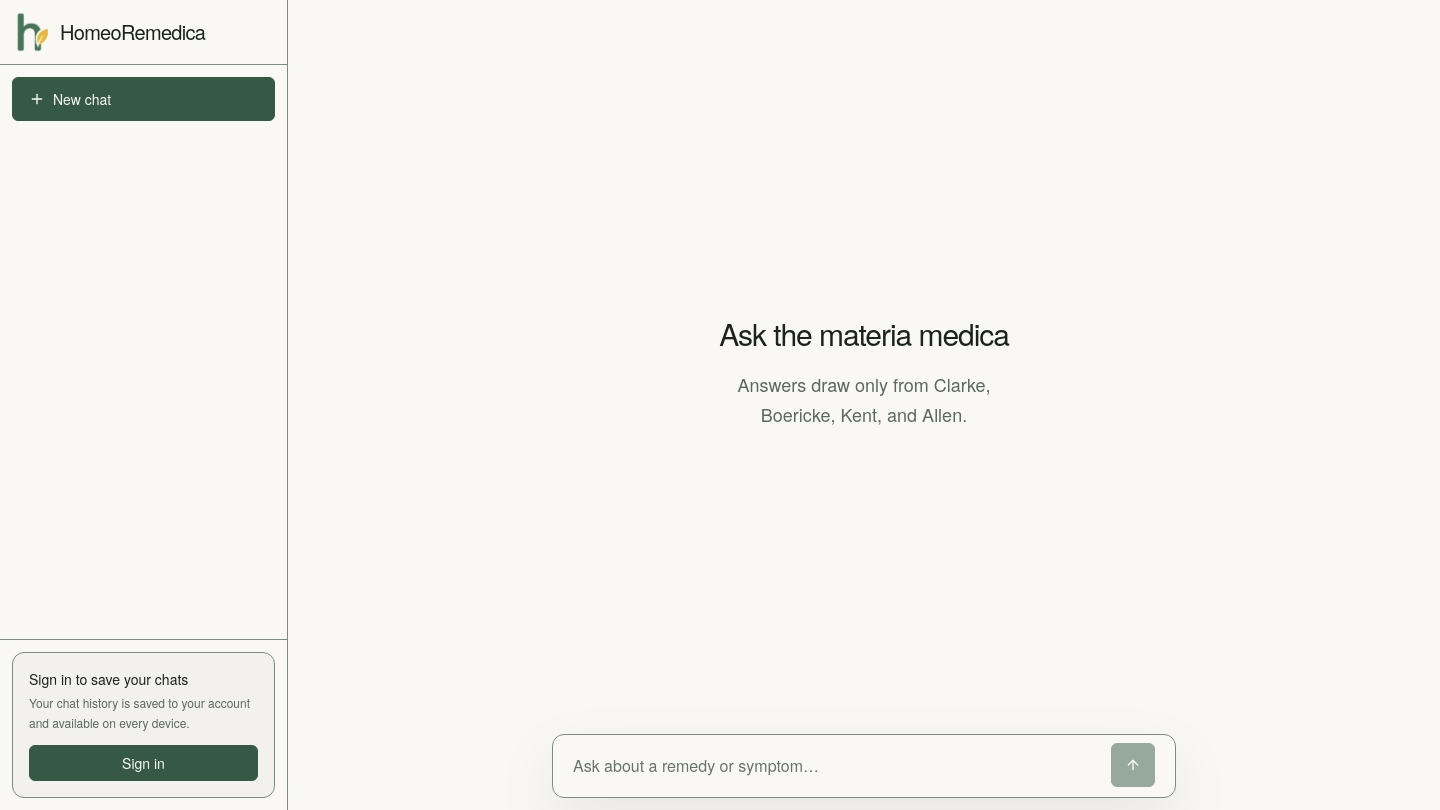
ChatClient › bolds starred phrases and strips citation numbers from answers
Type "How is Nux vomica described?" into the text box named "Message" at (836, 766), box [573,743,1099,789]
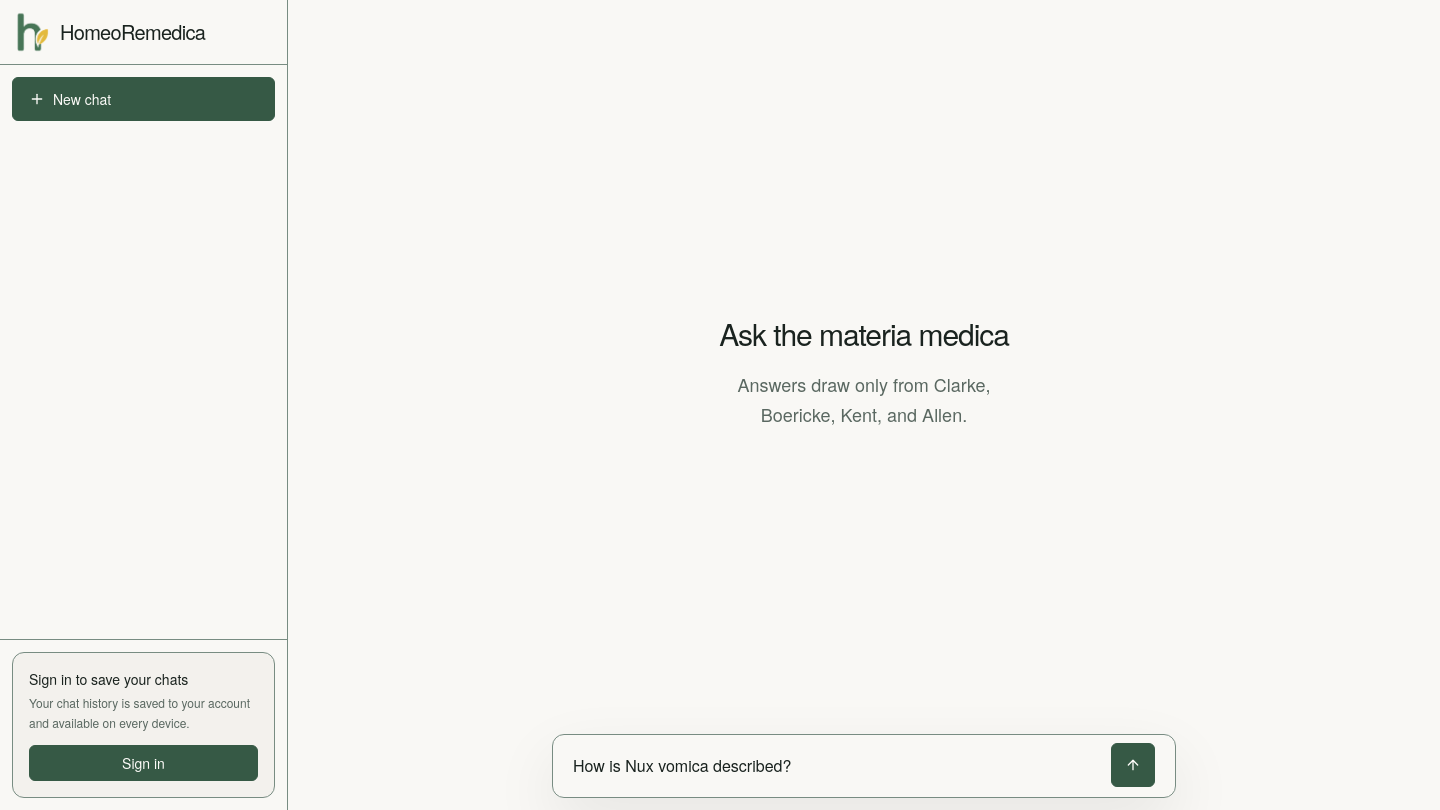
Click the button named "Send message" at (1133, 765), box [1111,743,1155,787]
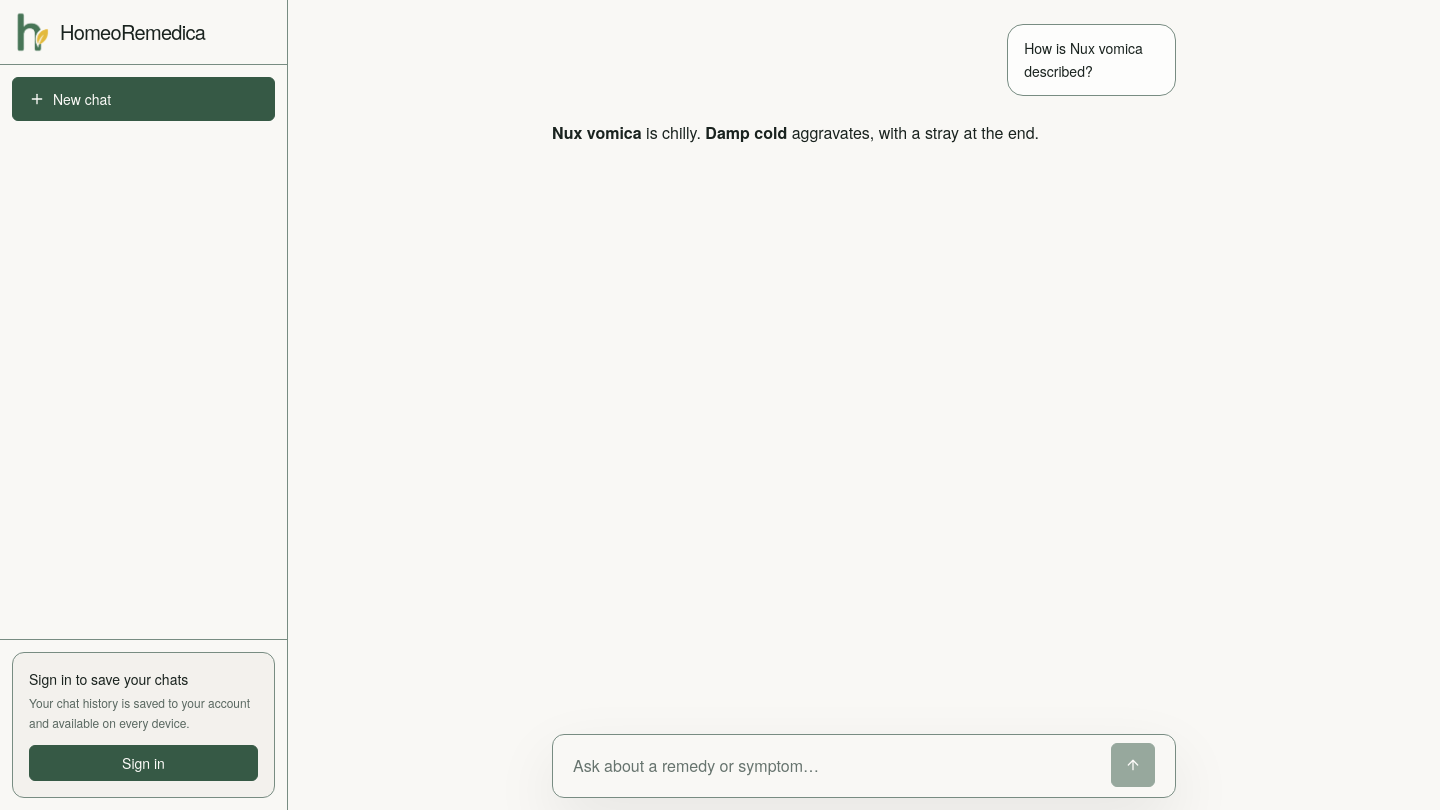
Expected: the text "Nux vomica" is shown, [552,121,642,144]
Expected: the text "is chilly." is shown, [642,121,705,144]
